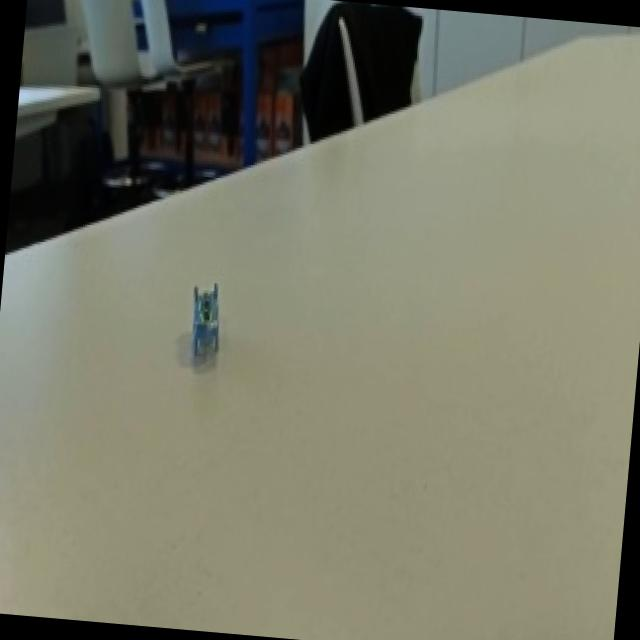3_NanoBug_Celeste: (168, 272, 256, 375)
